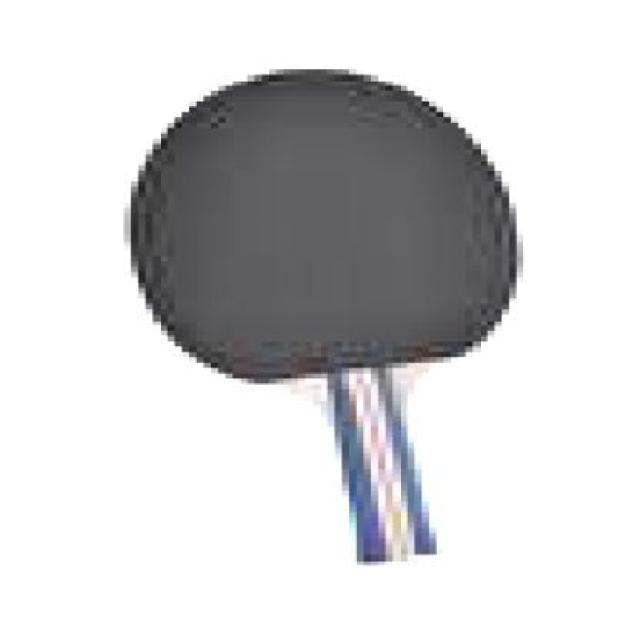table_tennis_racket: (122, 54, 528, 401)
